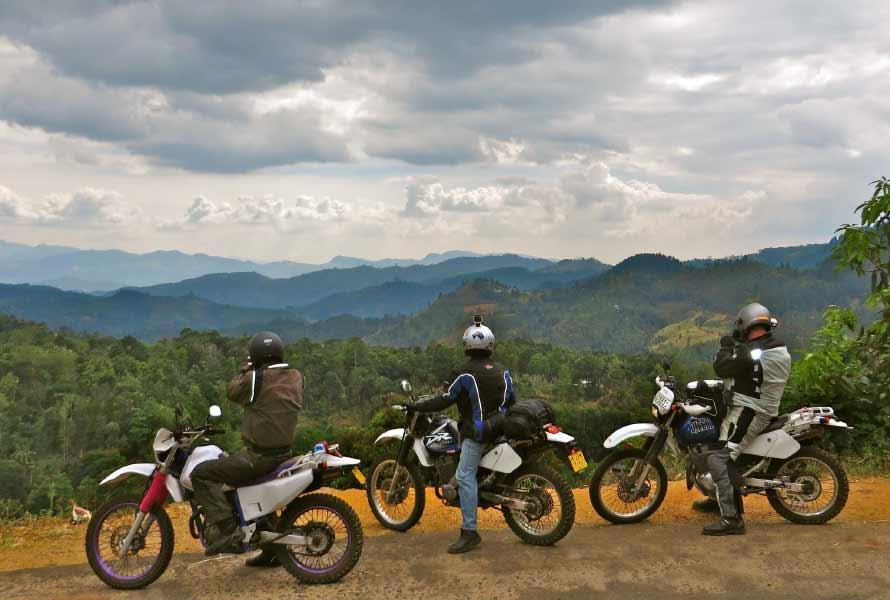motorbike: (85, 404, 367, 588), (589, 356, 849, 525), (368, 379, 587, 545)
